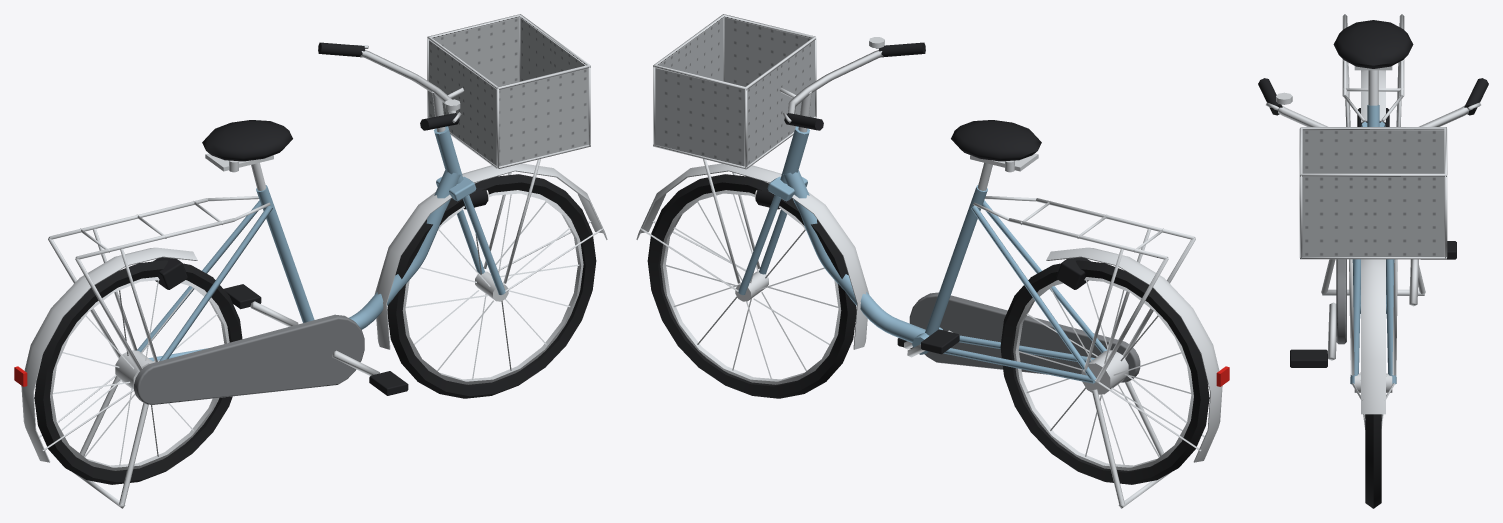
File: bicycle.fbx
3 renders of one model, left to right at view 1: azimuth 30°, elevation 25°; view 2: azimuth 150°, elevation 25°; view 3: azimuth 270°, elevation 25°, orthographic. The views are drawn at different scales.
Visible parts, largest first — view 1: bicycle; view 2: bicycle; view 3: bicycle.
Part boxes in pixels (box(x1,y1,x2,y2)): bicycle: box(14, 14, 607, 508); bicycle: box(636, 14, 1229, 508); bicycle: box(1258, 14, 1488, 508).
Bounding box in the file's own units: 1.86 × 1.04 × 0.6082.
Materials: 8 (1 with a texture image).
